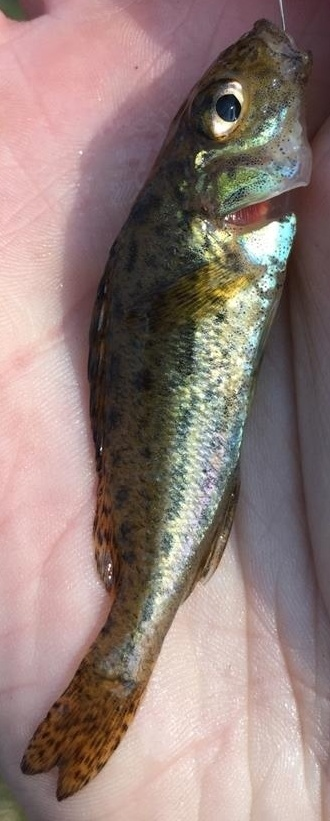Gymnocephalus cernuus: (20, 20, 310, 801)
